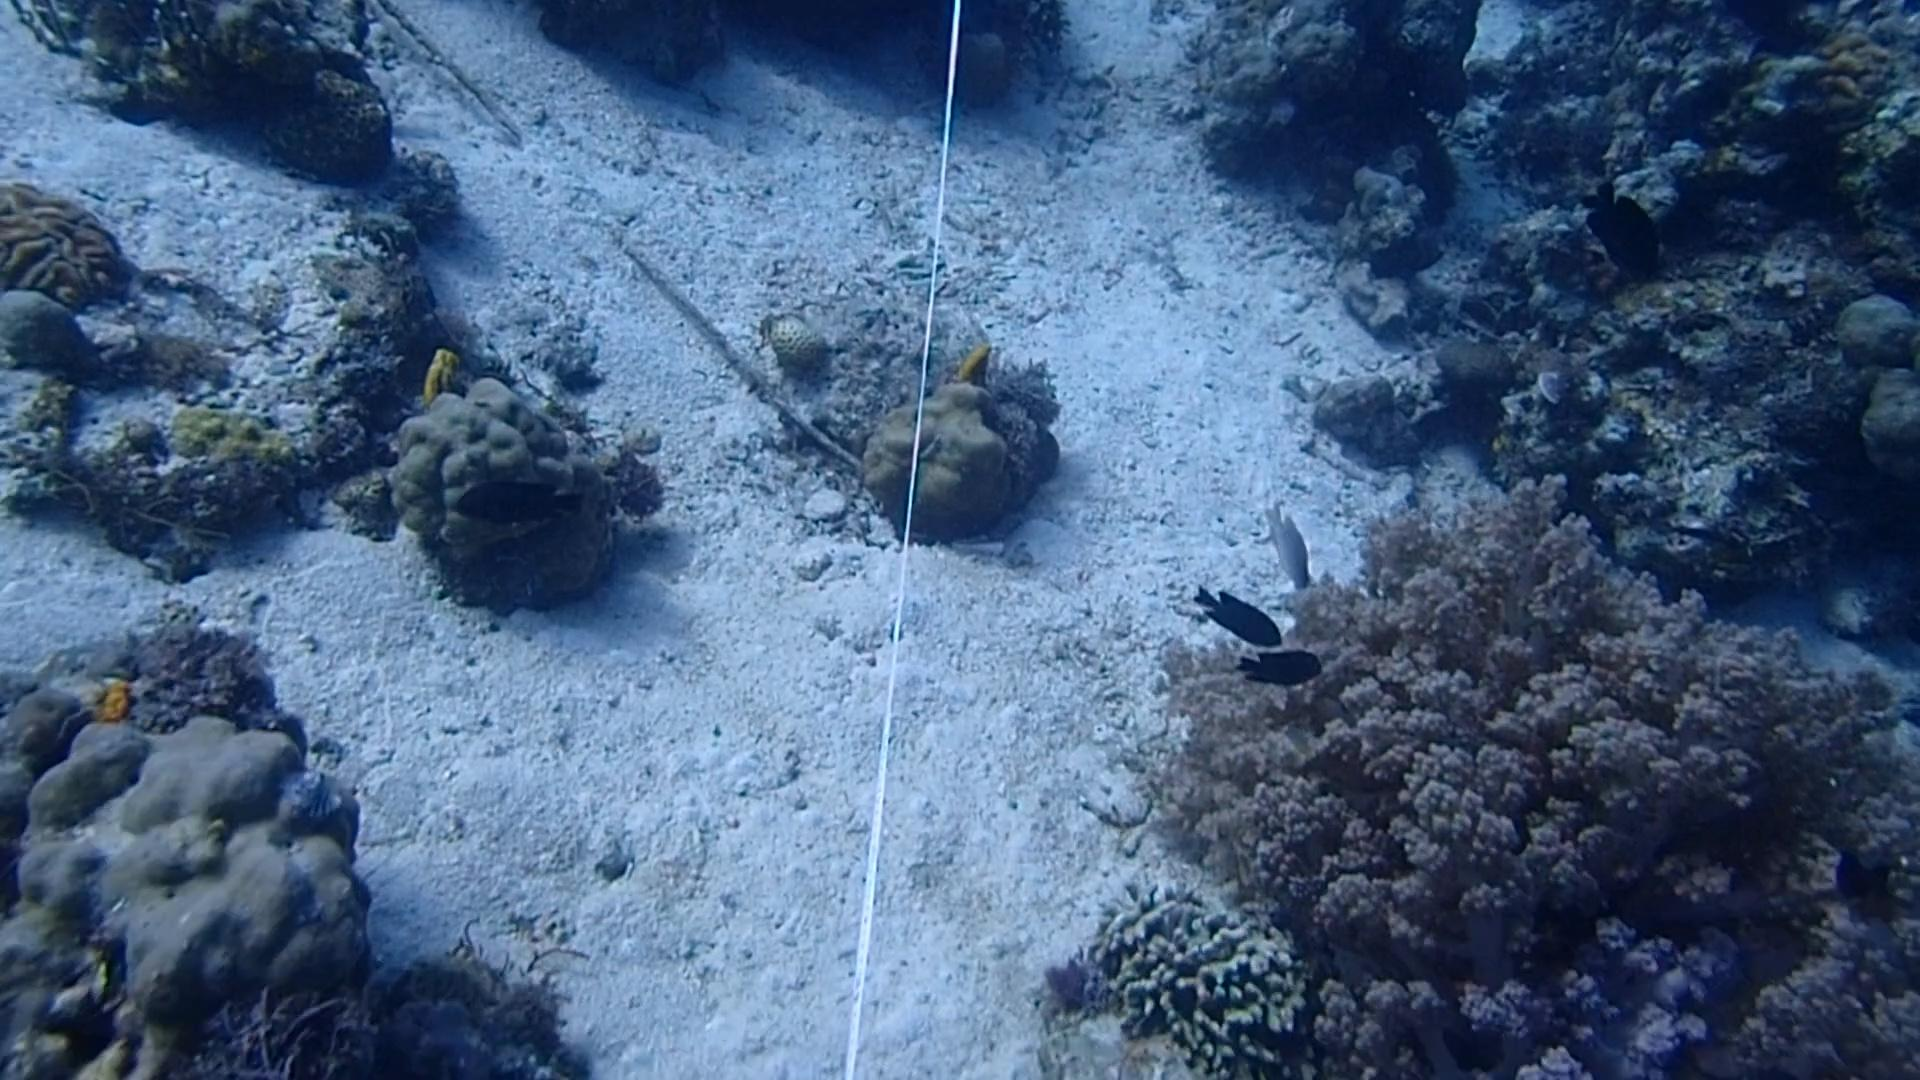Dark Fish: (1571, 173, 1671, 285), (1179, 575, 1291, 655), (448, 469, 583, 531), (1818, 852, 1913, 926), (1221, 644, 1335, 694)
Light Fish: (1246, 492, 1325, 592)
